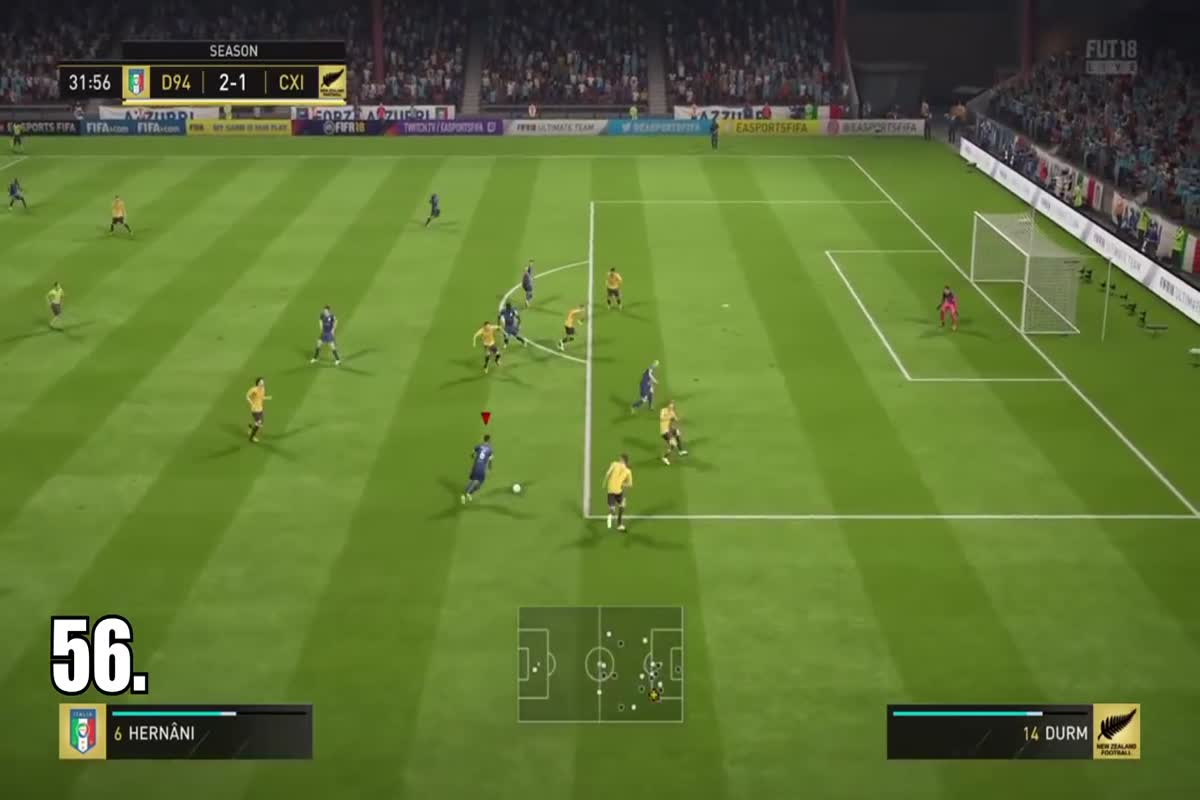ball: (500, 476, 533, 498)
